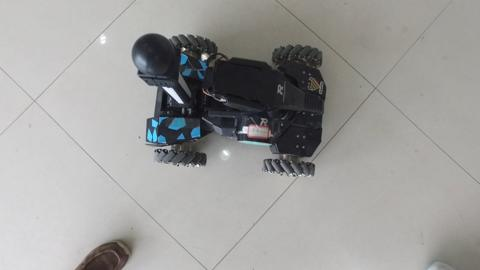chariot: (134, 16, 323, 183)
